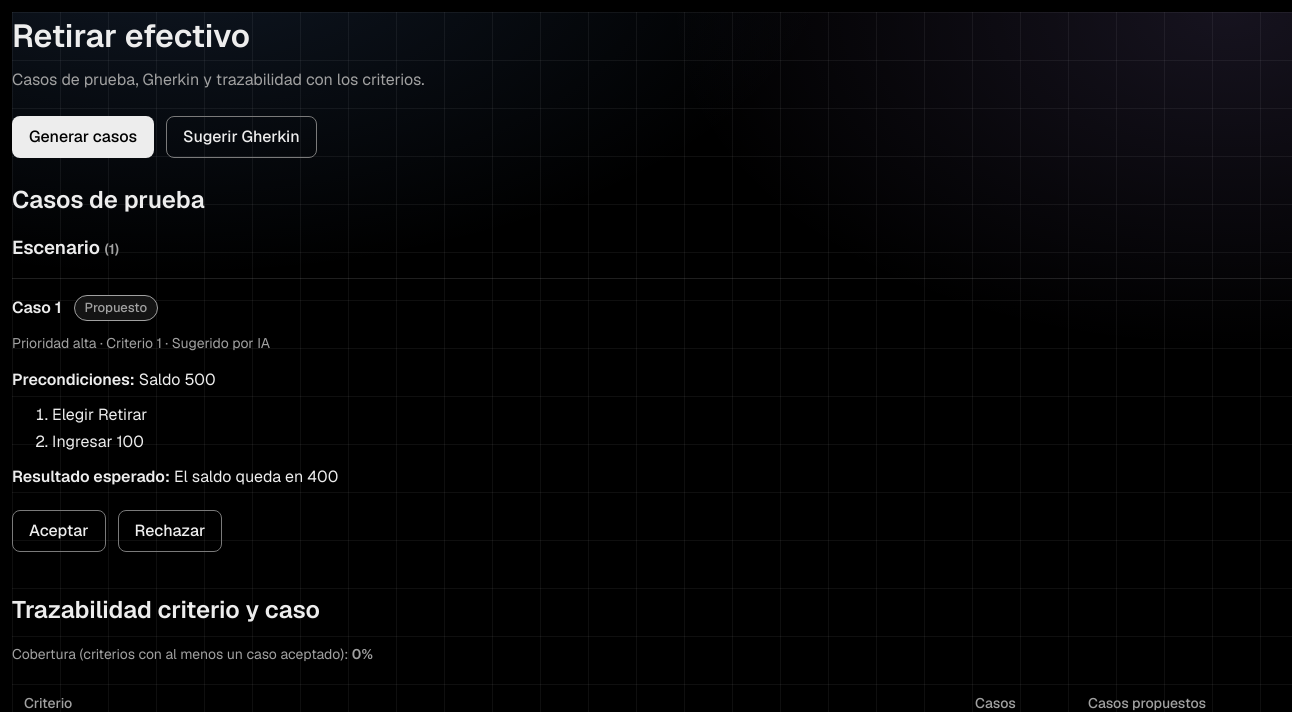
Test: TestsPage › si falla la trazabilidad tras cambiar el estado, el caso queda actualizado y se ofrece reintentar
The image size is (1292, 712).
Click the button with aria-label "Aceptar caso Caso 1".
click(59, 531)  # box x1=12 y1=510 x2=106 y2=552
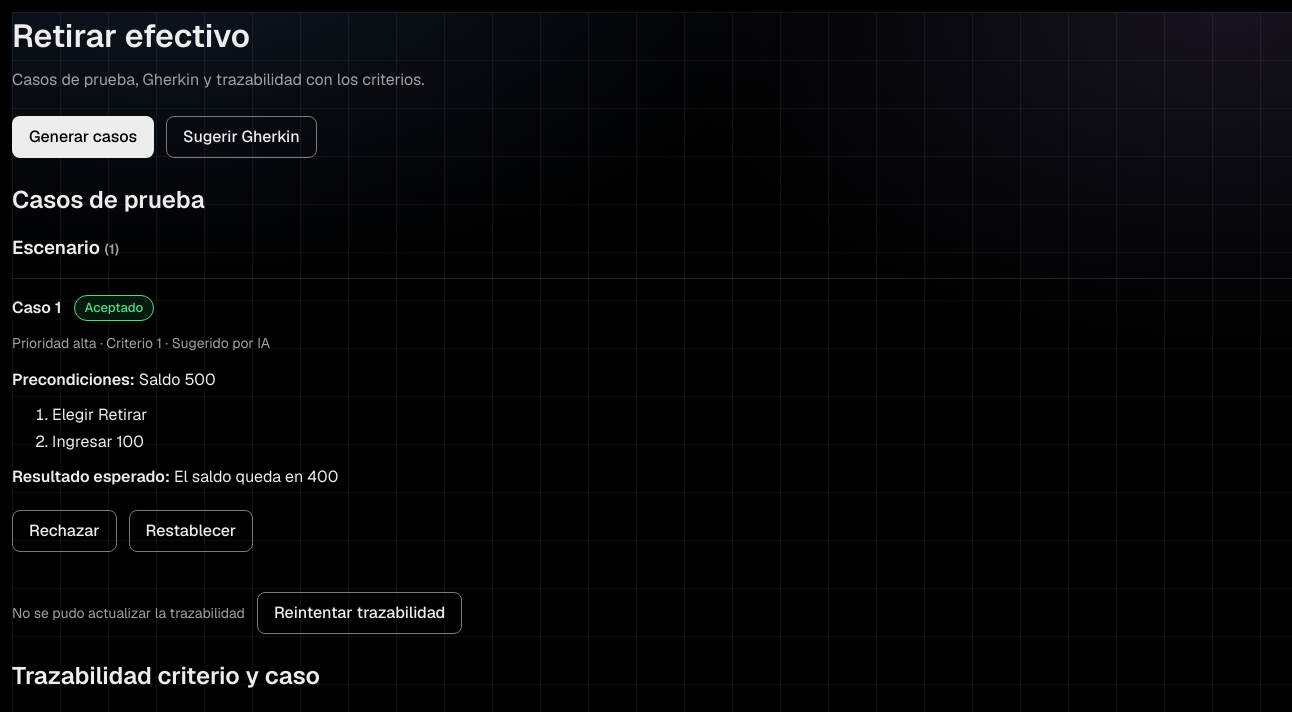
Expected: the text "Propuesto" is not shown
Expected: the text "Aceptado" is shown, x1=74 y1=295 x2=154 y2=321
Expected: the text "No se pudo actualizar la trazabilidad" is shown, x1=12 y1=603 x2=245 y2=624
Click the button "Reintentar trazabilidad".
click(360, 613)  # box x1=257 y1=592 x2=462 y2=634
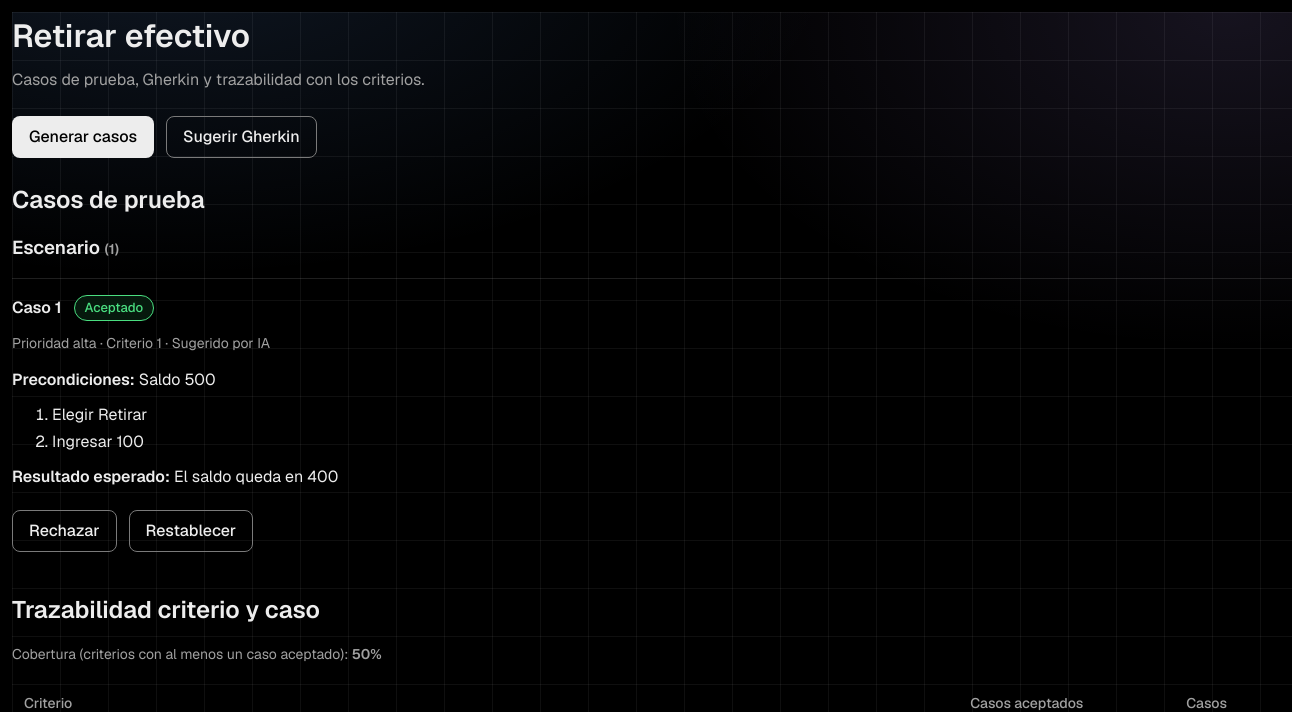
Expected: the text "No se pudo actualizar la trazabilidad" is gone
Expected: the text "50%" is shown, x1=352 y1=645 x2=382 y2=663
